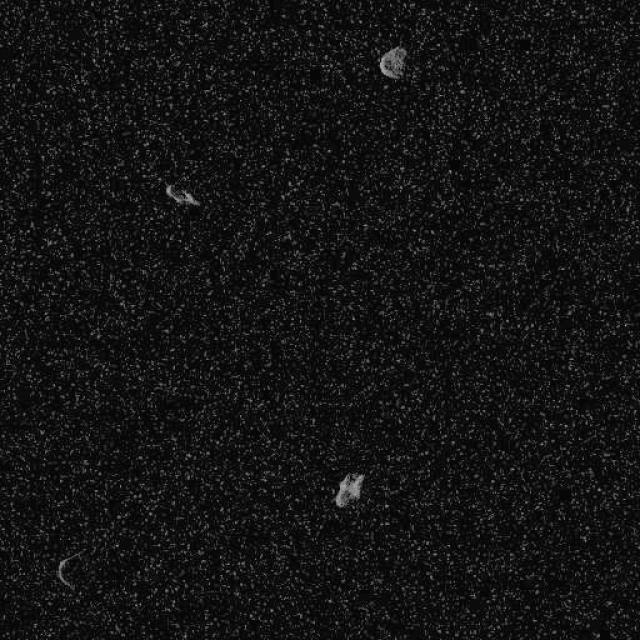D2: (56, 548, 85, 590), (334, 472, 364, 508), (378, 45, 408, 80), (164, 182, 200, 208)
